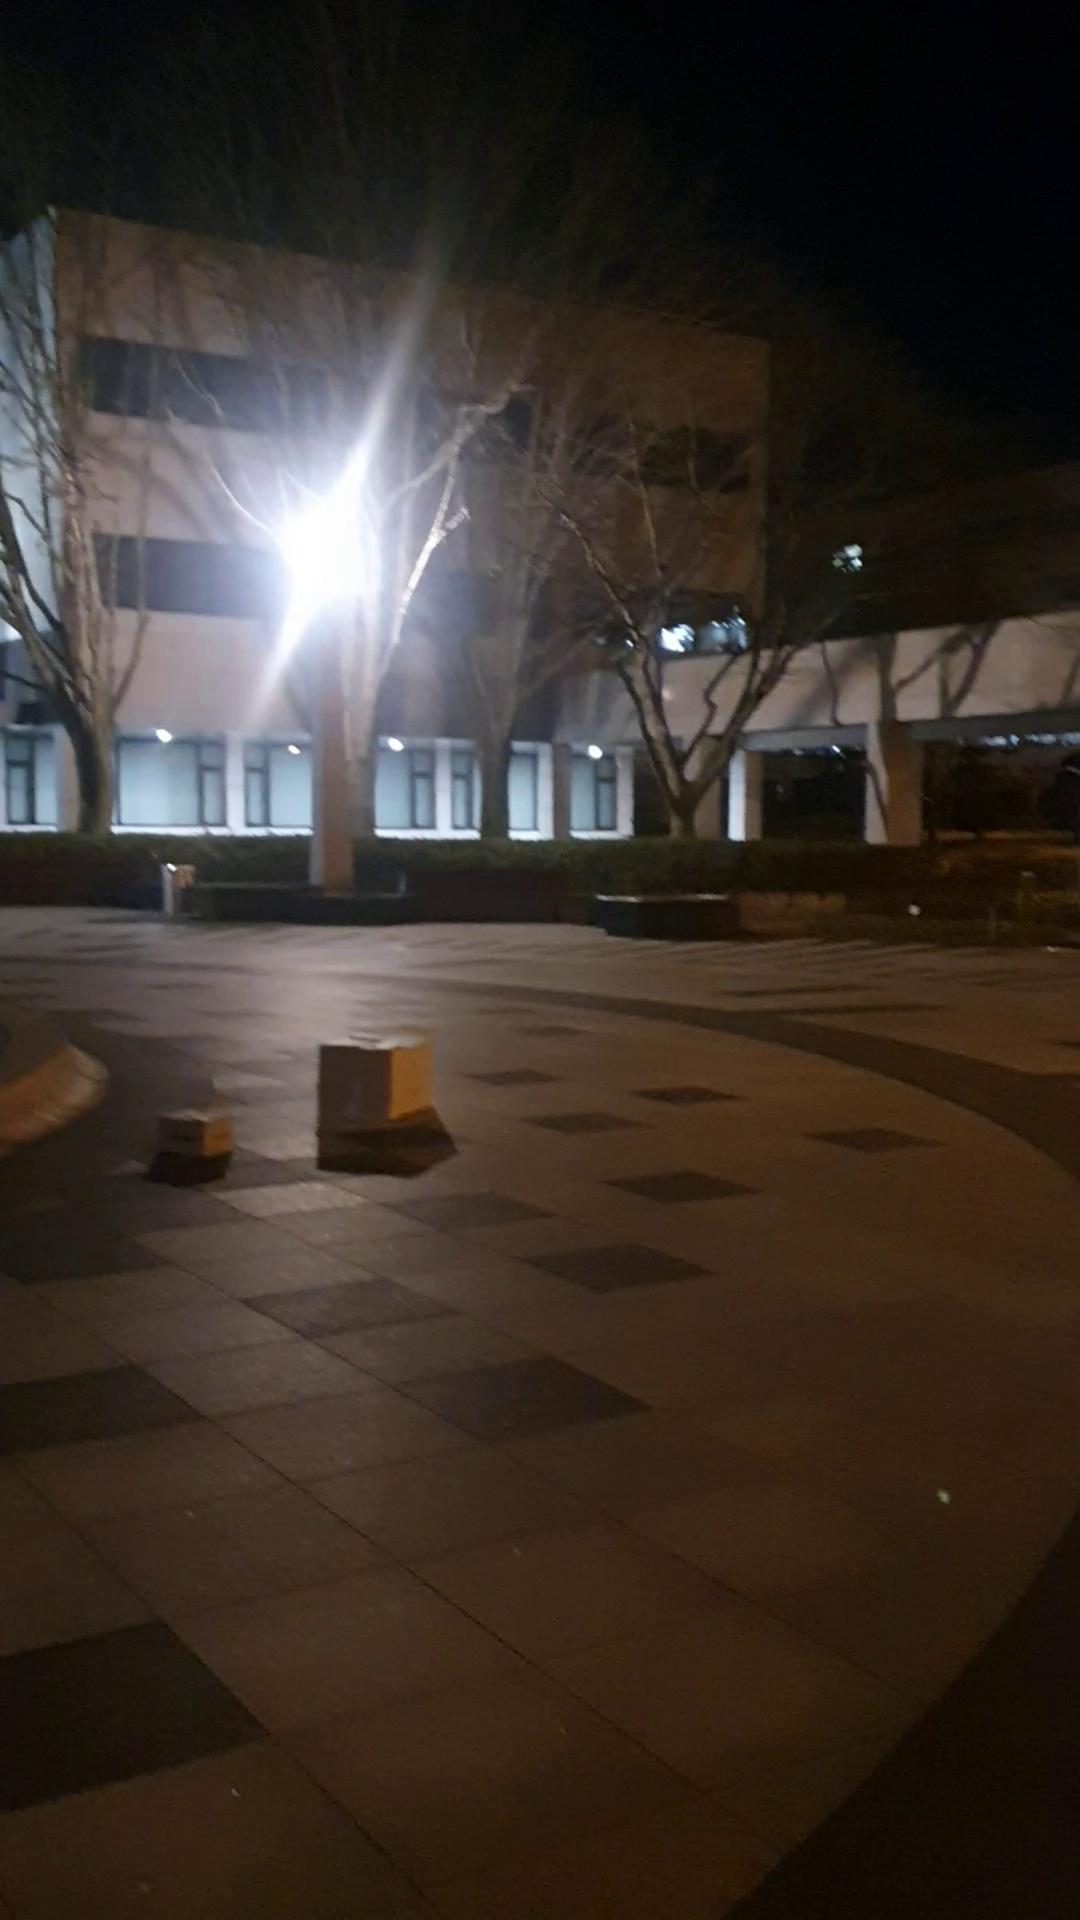Box: (306, 1018, 443, 1153), (153, 1093, 237, 1178)
